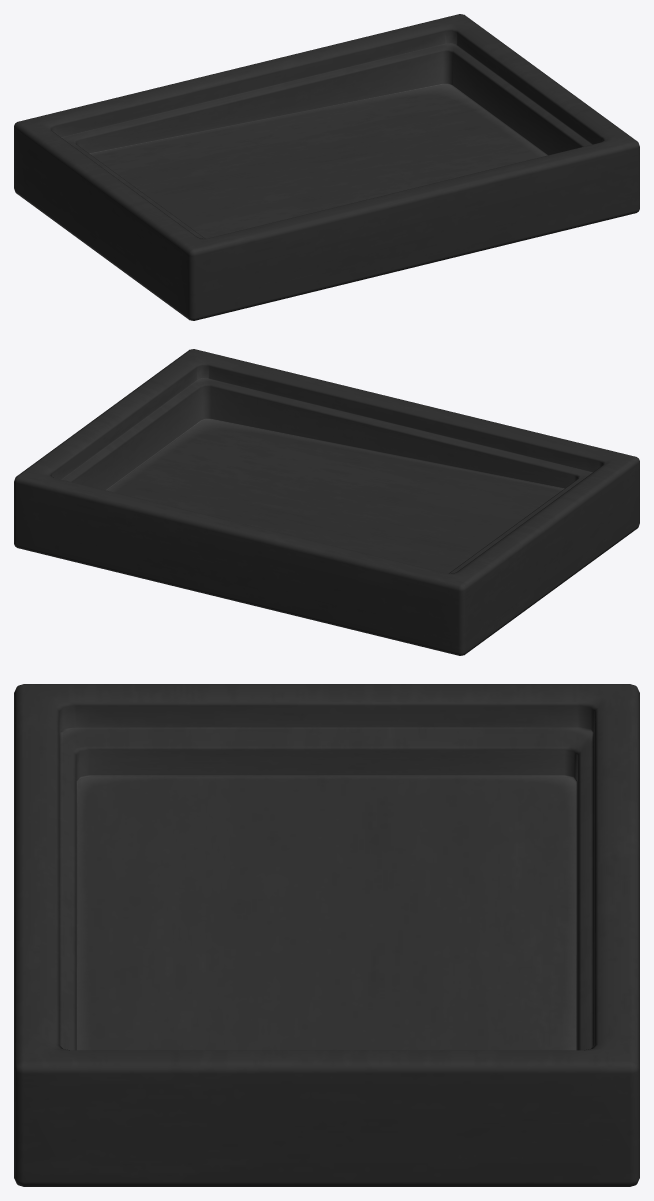
The model's file is inkstone_3.glb.
3 renders of one model, top to bottom at view 1: azimuth 30°, elevation 25°; view 2: azimuth 150°, elevation 25°; view 3: azimuth 270°, elevation 25°, orthographic. The views are drawn at different scales.
Parts seen in each view (by area): view 1: SM_MCJ_InkStone; view 2: SM_MCJ_InkStone; view 3: SM_MCJ_InkStone.
Boxes of the visible parts, box(x1,y1,x2,y2) form: SM_MCJ_InkStone: box(14, 14, 639, 320); SM_MCJ_InkStone: box(14, 349, 639, 655); SM_MCJ_InkStone: box(14, 684, 639, 1186).
Bounding box in the file's own units: 0.223 × 0.0339 × 0.1534.
1 material, 1 textured.
